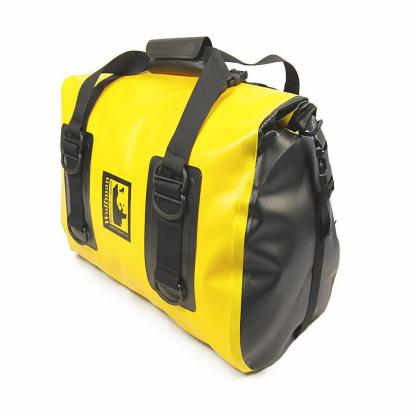other: (44, 48, 279, 375)
